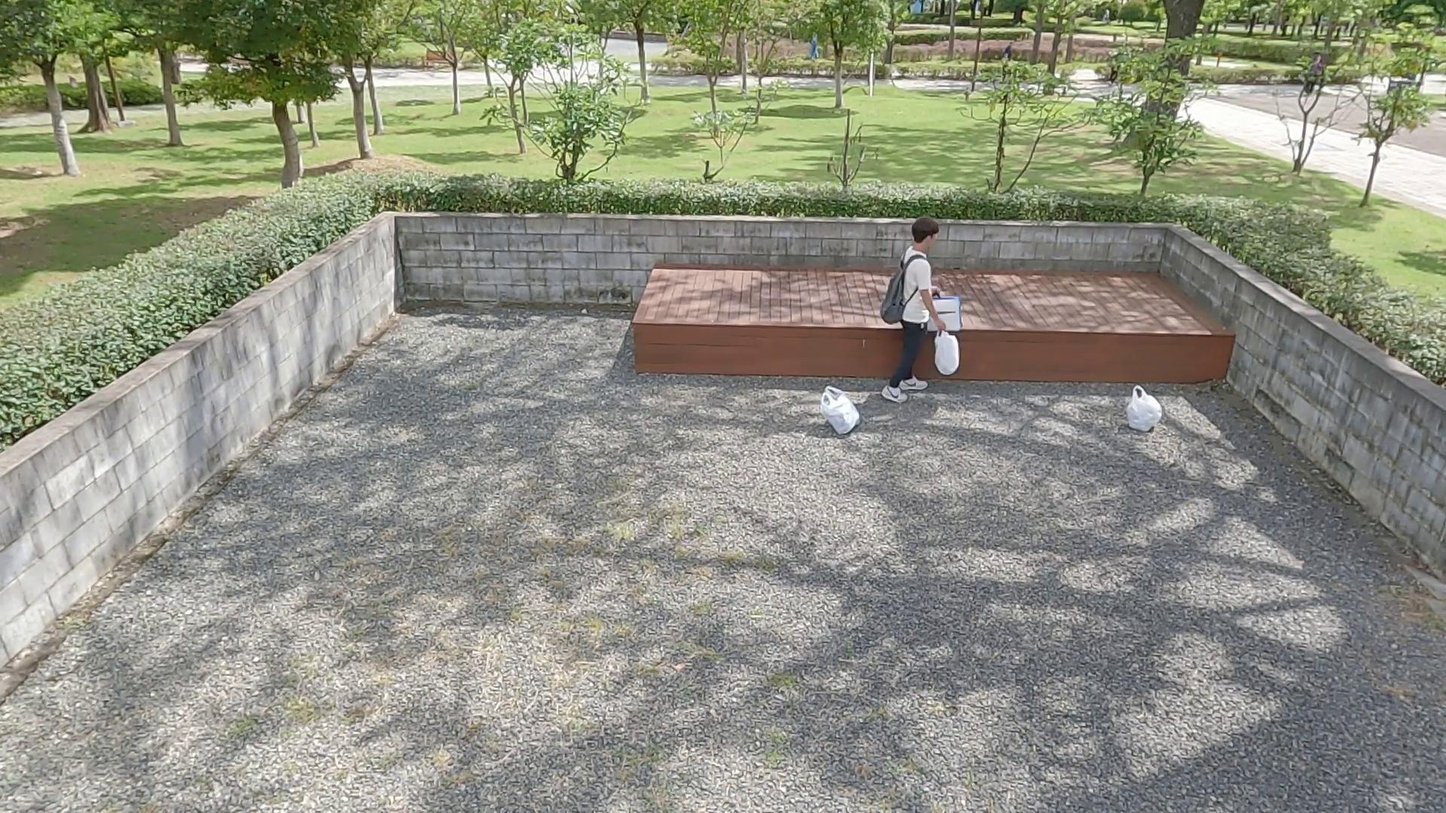person: (881, 215, 947, 406)
trash: (820, 383, 863, 434), (1127, 384, 1165, 432), (920, 289, 962, 331), (928, 329, 966, 375)
